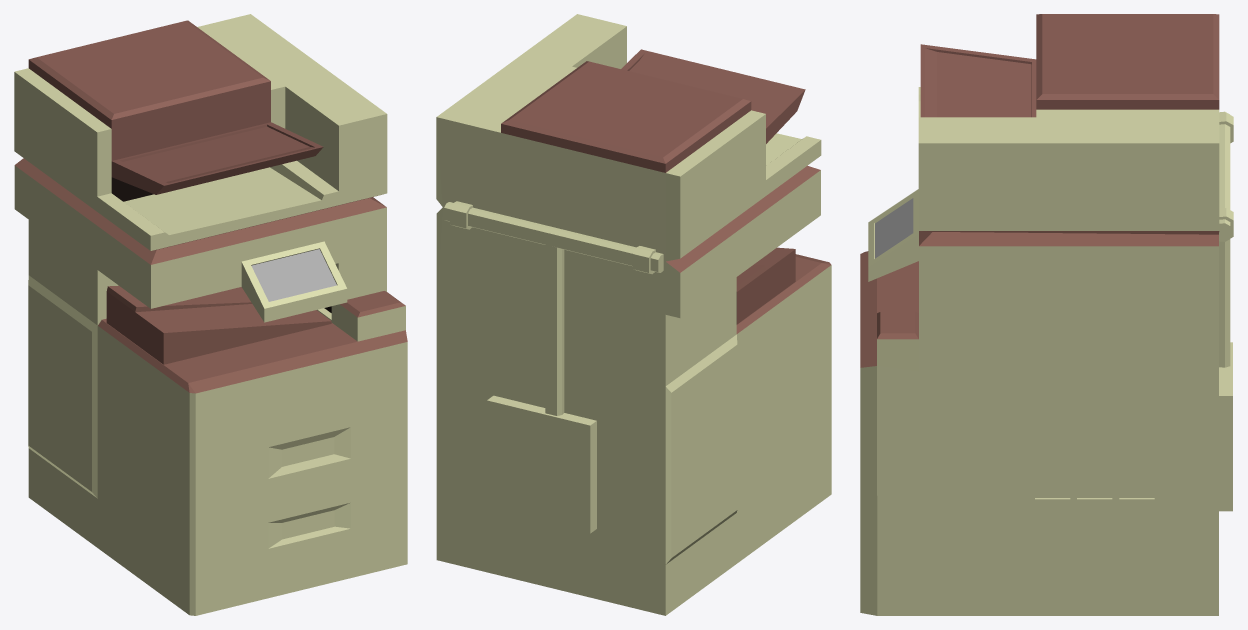
Rendered from Scanner-Tall-Office_01.fbx.
3 views of the same model, side by side, from view 1: azimuth 30°, elevation 25°; view 2: azimuth 150°, elevation 25°; view 3: azimuth 270°, elevation 25° (orthographic). The views are drawn at different scales.
Visible parts, largest first — view 1: Scanner, Scanner_Screne_16x9; view 2: Scanner; view 3: Scanner, Scanner_Screne_16x9.
Part boxes in pixels (<box>): Scanner: <box>14,14,407,615</box>; Scanner_Screne_16x9: <box>251,249,336,301</box>; Scanner: <box>436,14,831,615</box>; Scanner: <box>860,14,1233,615</box>; Scanner_Screne_16x9: <box>875,198,913,258</box>.
Bounding box in the file's own units: 0.723 × 1.27 × 0.8885.
